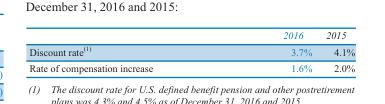table: (28, 29, 354, 73)
table column: (28, 29, 217, 73), (217, 29, 318, 73), (318, 29, 354, 73)
table column header: (28, 29, 354, 42)
table row: (28, 42, 354, 59), (28, 59, 354, 73), (28, 29, 354, 42)
